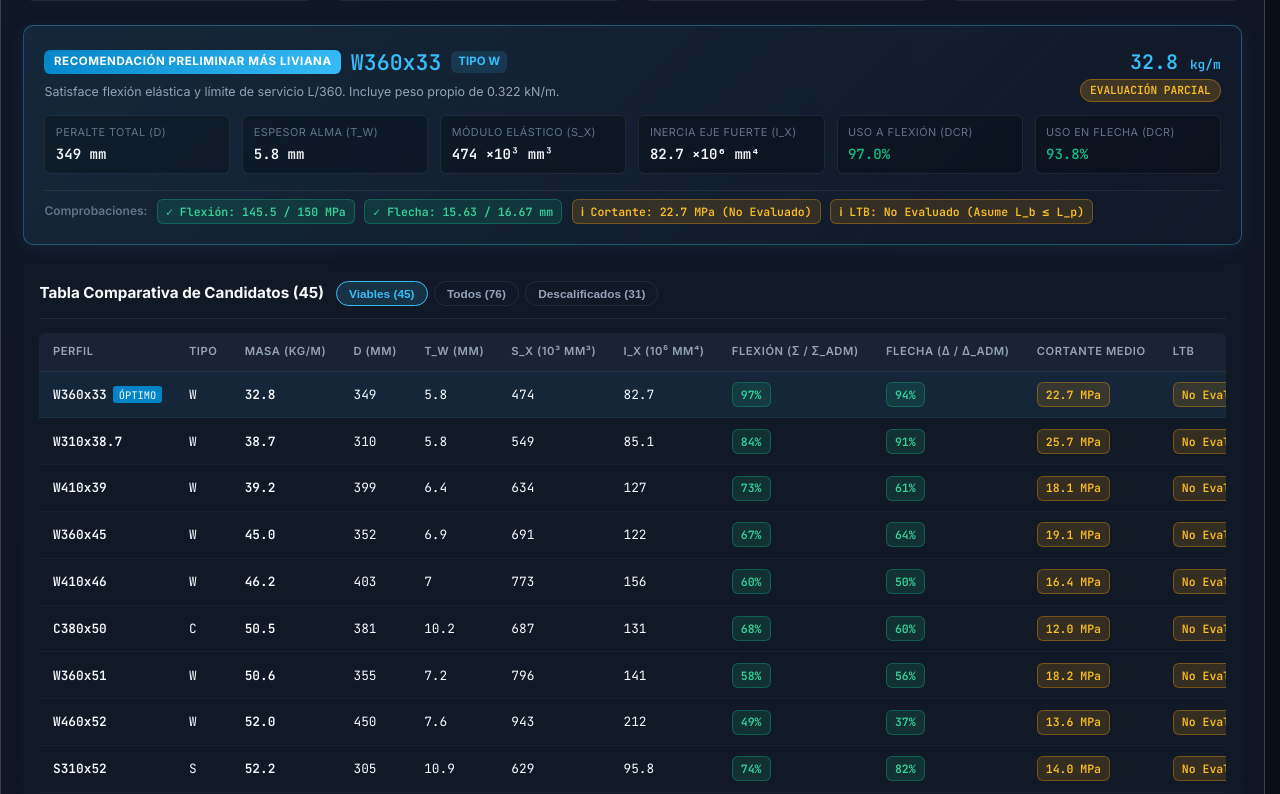
Test: OptiSteel 2.0 — SteelProfileSelector Component Integration Tests › 9. Detalle interactivo de candidato al hacer clic en una fila
(page scrolled)
Expected: the row named "Haga clic para ver detalles y solicitaciones internas actuan" is shown, [39, 371, 1226, 418]
Click the row named "Haga clic para ver detalles y solicitaciones internas actuan" at [660, 394], box [39, 371, 1279, 418]
(page scrolled)
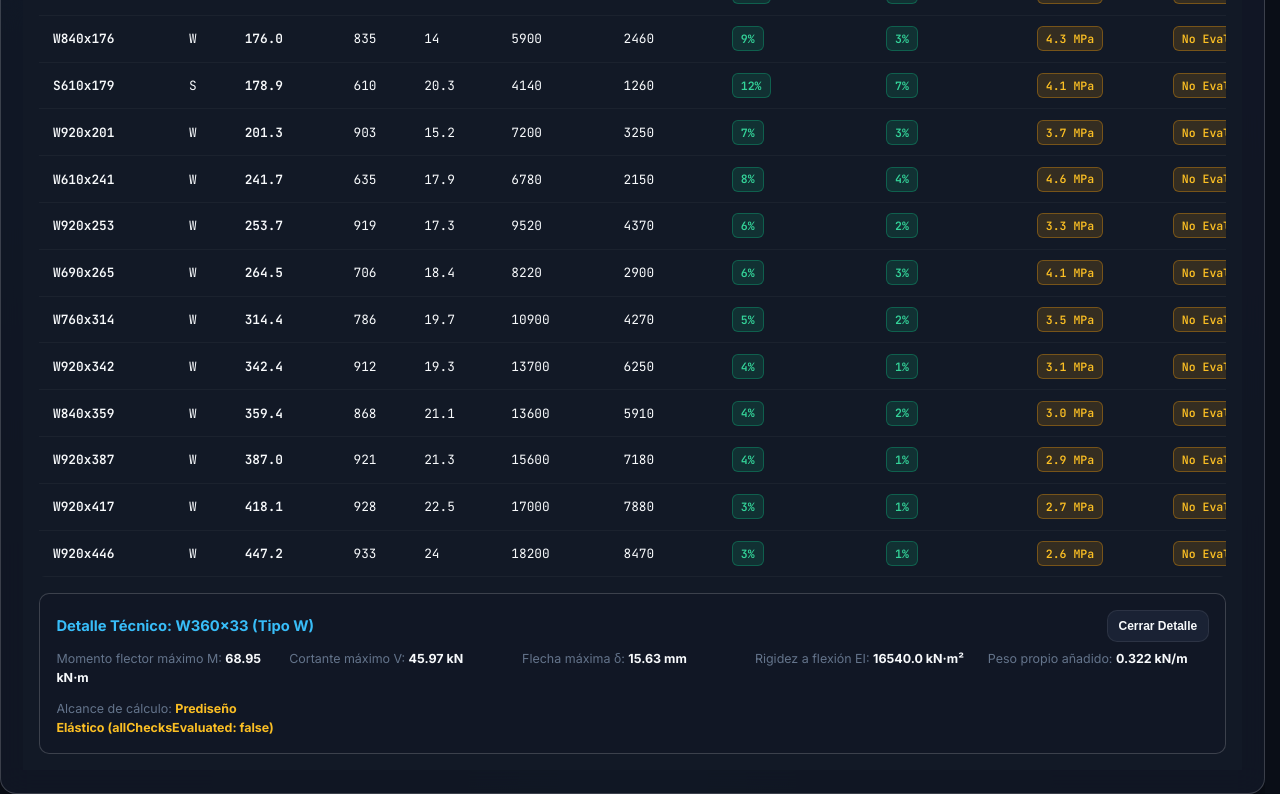
Expected: the text "Momento flector máximo M:" is shown, [56, 651, 225, 666]
Expected: the text "Cortante máximo V:" is shown, [289, 651, 408, 666]
Expected: the text "Flecha máxima δ:" is shown, [522, 651, 628, 666]
// Cerrar detalle
Click the button "Cerrar Detalle" at [1158, 626], box [1107, 610, 1209, 642]
(page scrolled)
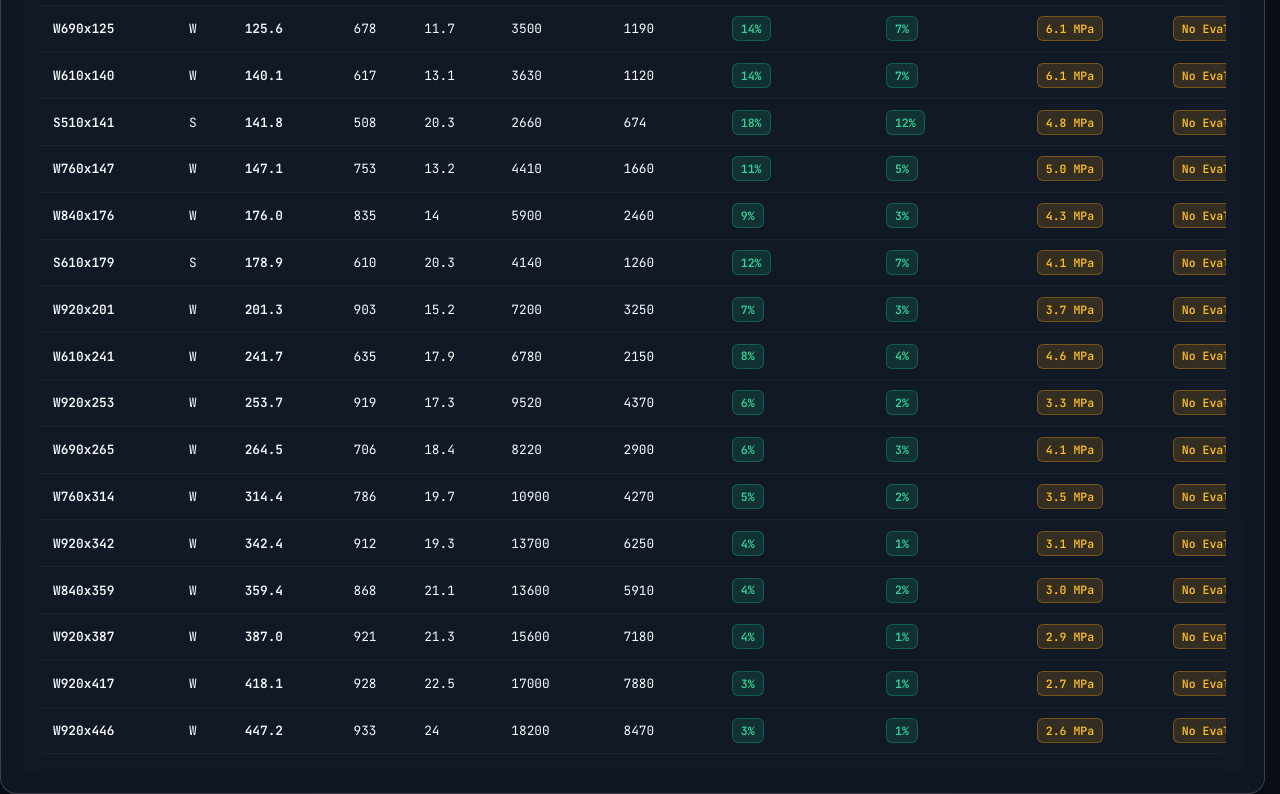
Expected: the text "Momento flector máximo M:" is gone
